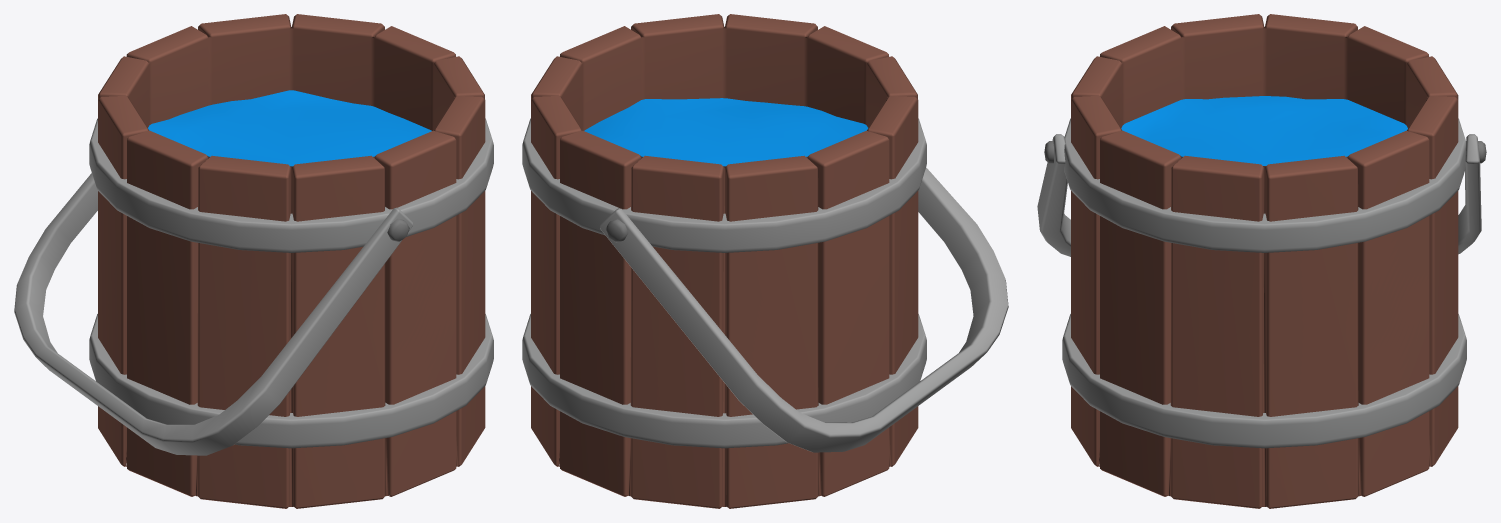
File: Farm_9_Balde_with_water_1.glb
3 renders of one model, left to right at view 1: azimuth 30°, elevation 25°; view 2: azimuth 150°, elevation 25°; view 3: azimuth 270°, elevation 25°, orthographic.
Parts seen in each view (by area): view 1: Farm_9_Balde_with_water_1; view 2: Farm_9_Balde_with_water_1; view 3: Farm_9_Balde_with_water_1.
Boxes of the visible parts, left/top/right/bottom form: Farm_9_Balde_with_water_1: left=14, top=14, right=493, bottom=508; Farm_9_Balde_with_water_1: left=522, top=14, right=1008, bottom=508; Farm_9_Balde_with_water_1: left=1037, top=14, right=1486, bottom=508.
Bounding box in the file's own units: 0.4378 × 0.3667 × 0.4469.
1 material, 1 textured.
